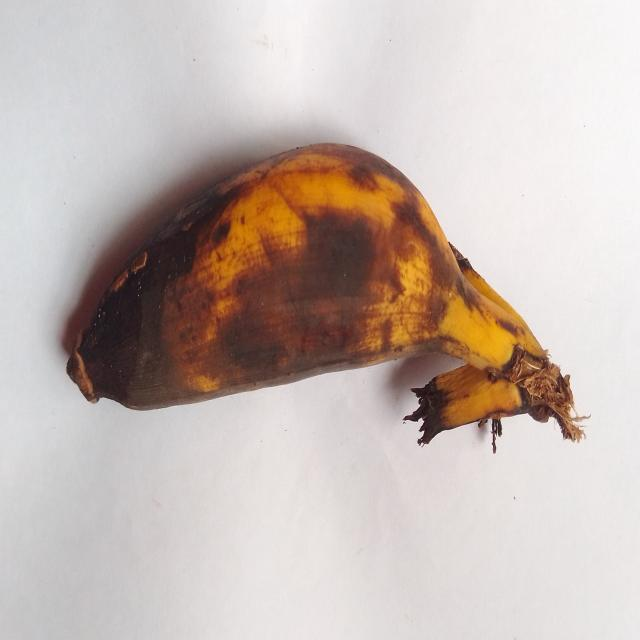banana: (68, 145, 581, 441)
